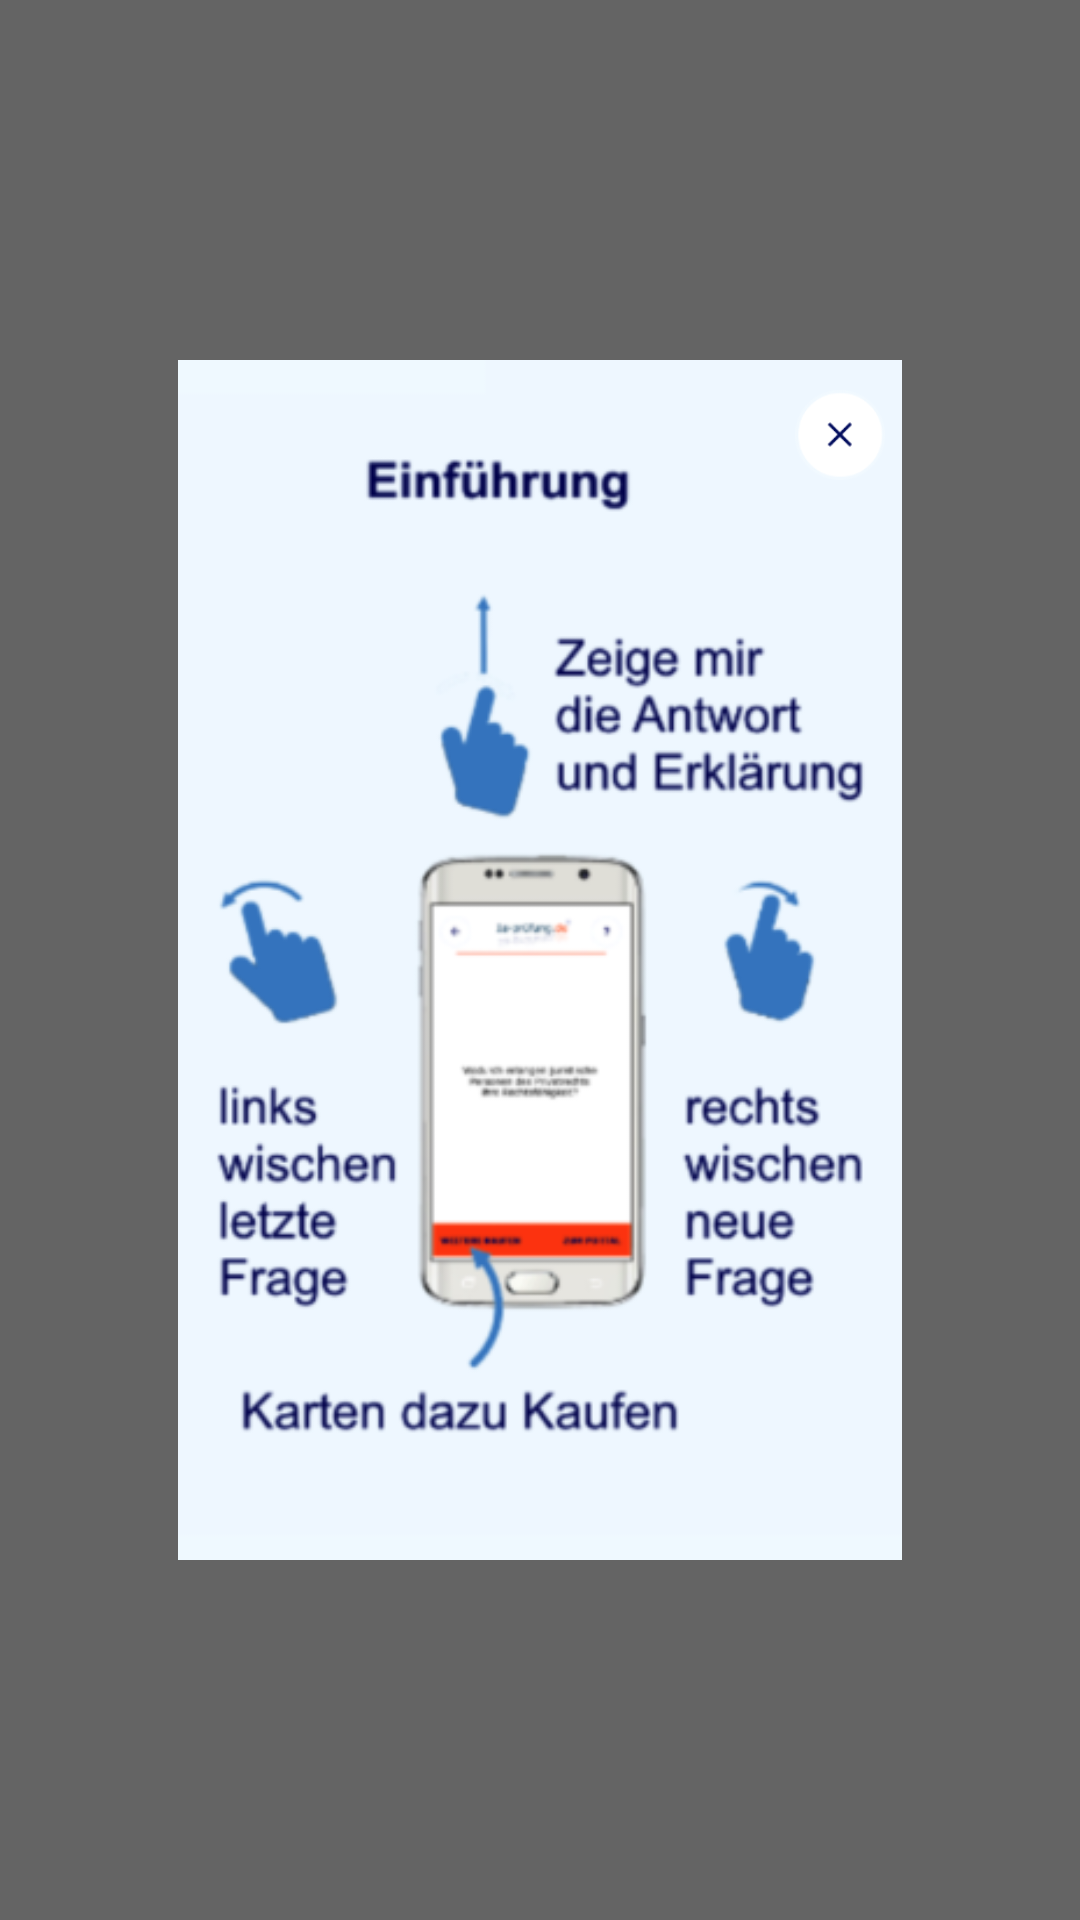

Icon click points for this 1080px x 1920px phone screenshot, format [x,y]:
close: [840,435]
